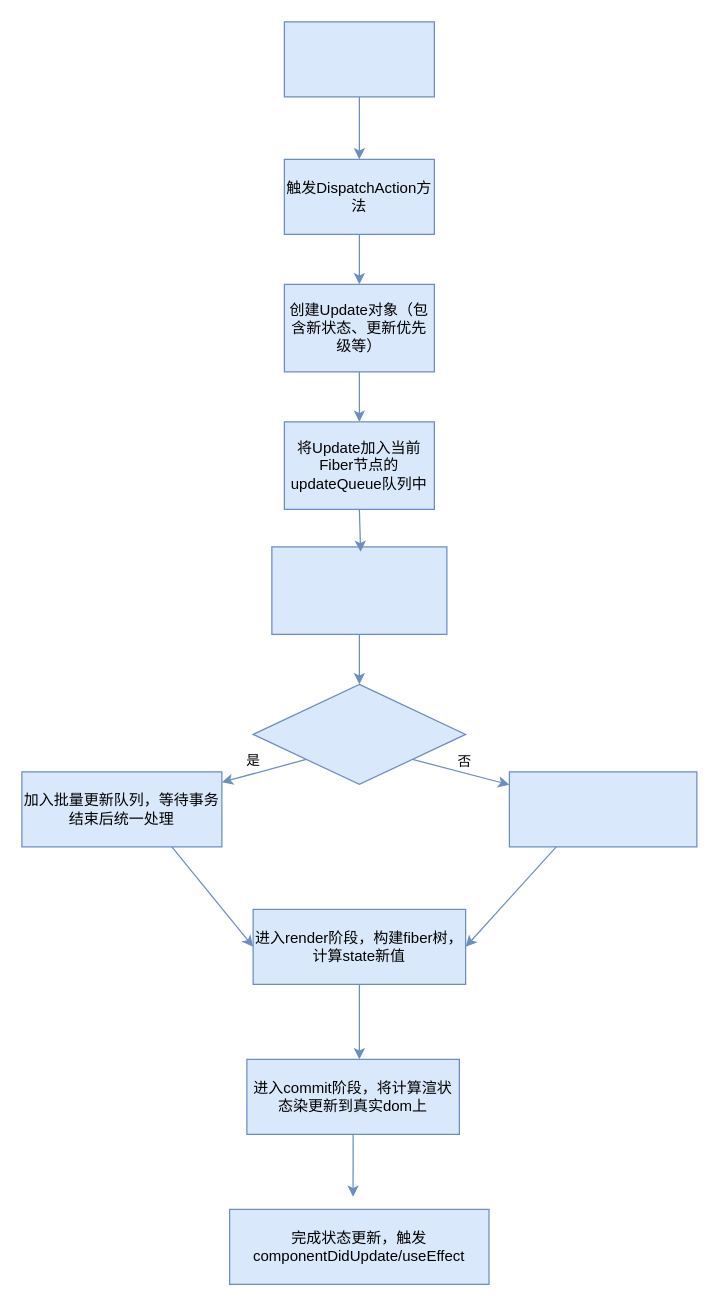
Some shapes in this 719 by 1306 pixel diagram are drawn without their labels. Each missing label, with the centre of its shape:
判断是否需要批量更新: (359,733)
立即触发scheduleCallback调度渲染: (602,809)
调用scheduleUpdateOnFiber调度更新: (359,590)
调用SetState/useState更新函数: (358,59)
